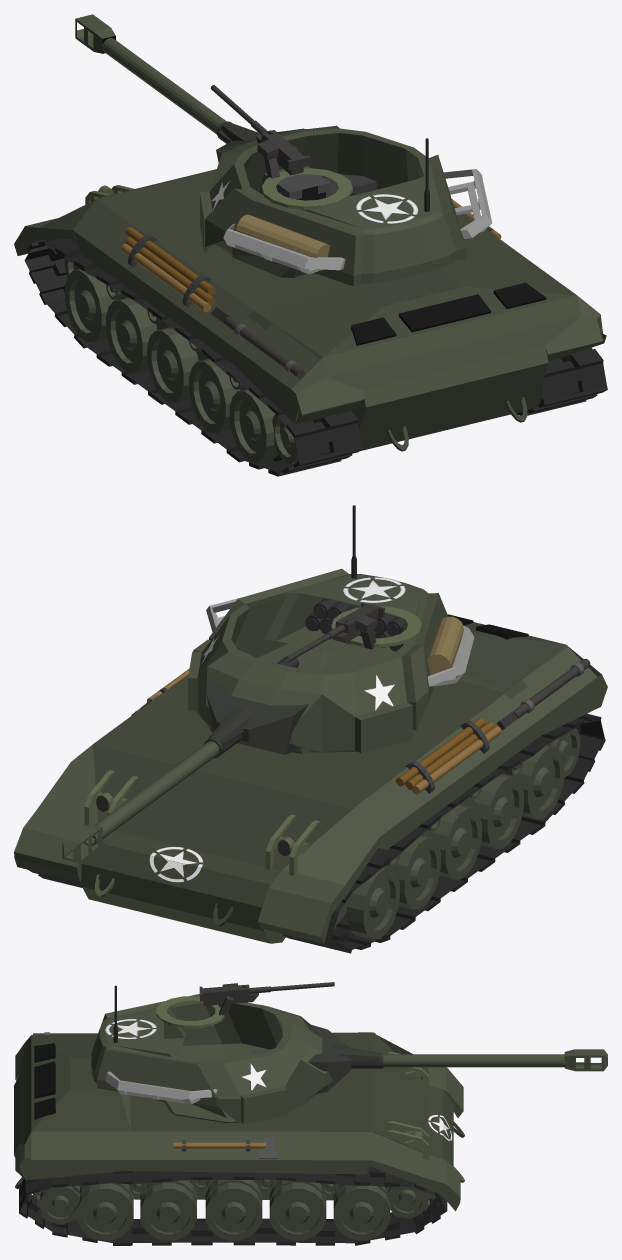
The picture shows the model from 3 angles, top to bottom: view 1: azimuth 30°, elevation 25°; view 2: azimuth 150°, elevation 25°; view 3: azimuth 270°, elevation 25°; orthographic projection. The views are drawn at different scales.
Visible parts, largest first — view 1: cylinder (×18), cuboid (×8), cube; view 2: cylinder (×17), cuboid (×4), cube; view 3: cylinder (×16), cuboid (×7), cube.
Boxes of the visible parts, x1,y1,x2,y2 form: cylinder (×18): (14, 38, 607, 476); cuboid (×8): (75, 14, 546, 345); cube: (356, 194, 418, 223); cylinder (×17): (14, 568, 607, 953); cuboid (×4): (62, 602, 474, 863); cube: (343, 577, 405, 602); cylinder (×16): (14, 982, 567, 1245); cuboid (×7): (34, 983, 607, 1159); cube: (105, 1019, 156, 1039).
Bounding box in the file's own units: 2.44 × 2.08 × 5.22.
Materials: 7 (7 with a texture image).
